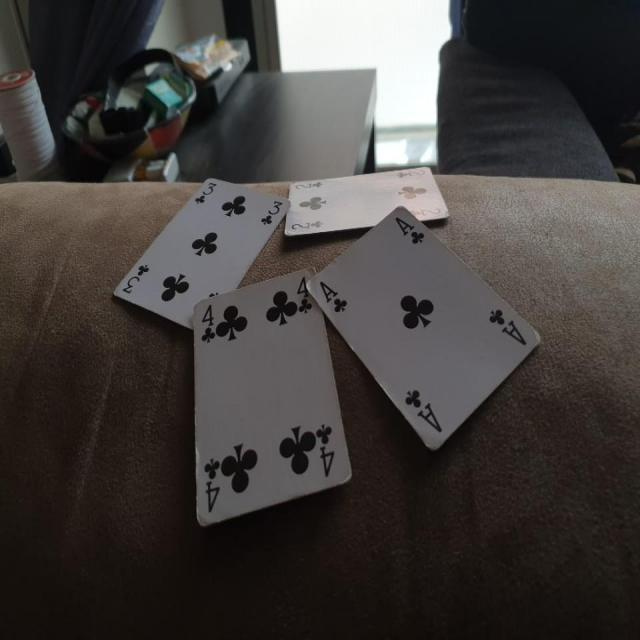2 of clubs: (283, 163, 452, 236)
3 of clubs: (111, 177, 292, 330)
4 of clubs: (190, 263, 353, 530)
ace of clubs: (304, 205, 544, 450)
